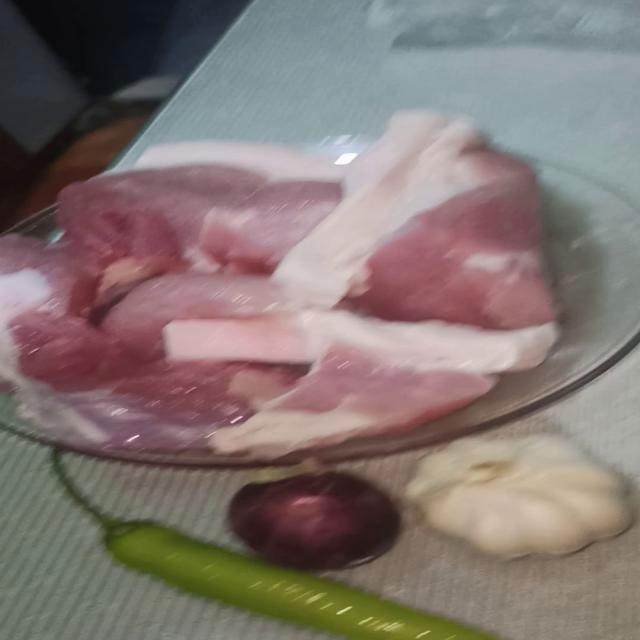chili_pepper: (0, 451, 557, 640)
garlic: (415, 440, 640, 573)
onion: (184, 458, 403, 590)
pork: (21, 97, 361, 272), (296, 130, 578, 328), (222, 310, 542, 452), (0, 308, 246, 435), (3, 277, 338, 335), (0, 245, 190, 330)
